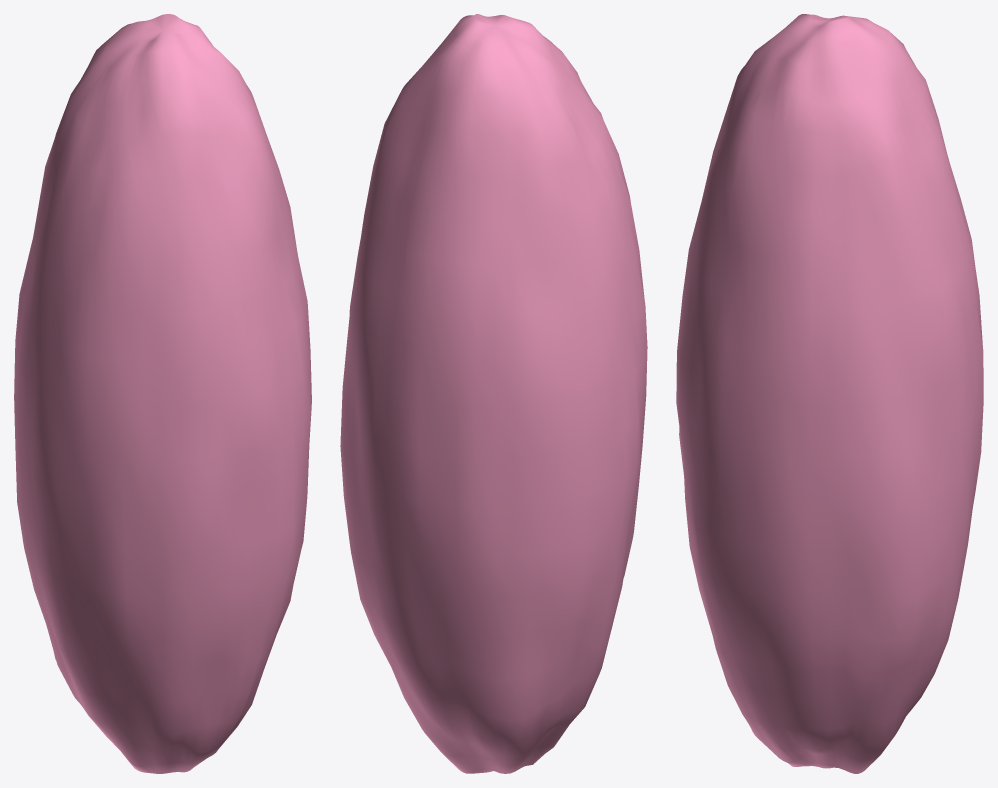
3 views of the same model, side by side, from view 1: azimuth 30°, elevation 25°; view 2: azimuth 150°, elevation 25°; view 3: azimuth 270°, elevation 25° (orthographic).
Visible parts, largest first — view 1: capsule; view 2: capsule; view 3: capsule.
Boxes of the visible parts, x1,y1,x2,y2 form: capsule: (14,14,311,773); capsule: (340,14,647,773); capsule: (676,14,983,773).
Bounding box in the file's own units: 1.1 × 3.02 × 1.11.
